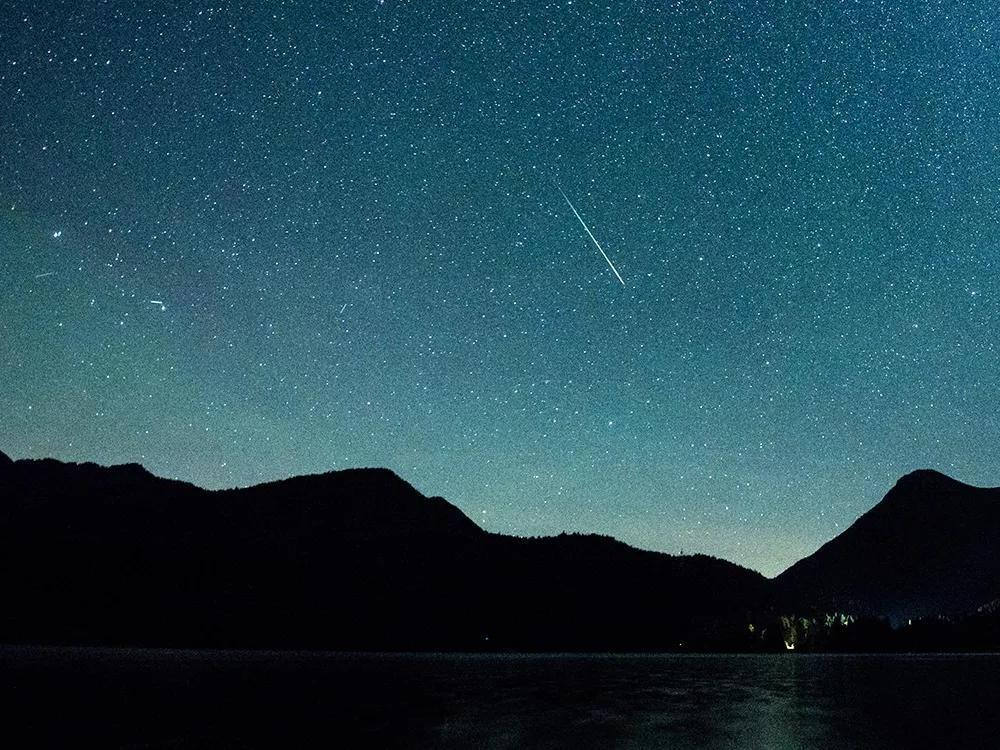meteorite: (530, 165, 633, 287)
